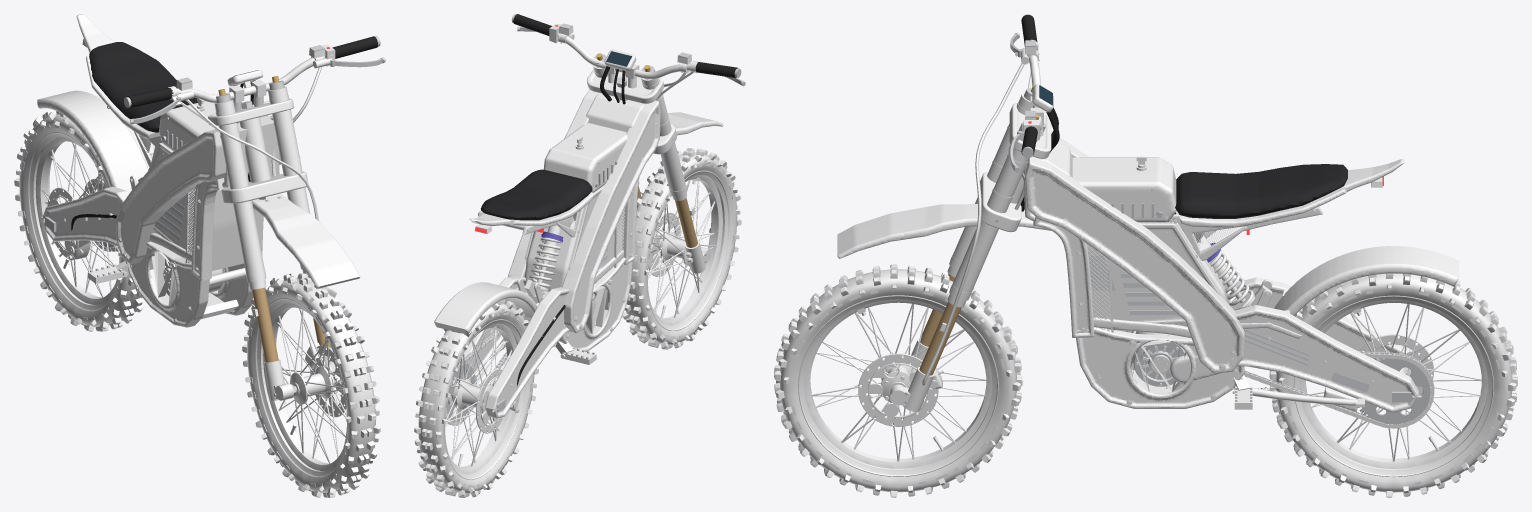
Rendered from SurRon.glb.
The picture shows the model from 3 angles, left to right: view 1: azimuth 30°, elevation 25°; view 2: azimuth 150°, elevation 25°; view 3: azimuth 270°, elevation 25°; orthographic projection. The views are drawn at different scales.
Parts seen in each view (by area): view 1: SurRon_FrontWheel_rubber, SurRon_Steering_black, SurRon_RearWheel_rubber, SurRon_Body_frame3, SurRon_Swingarm_black, SurRon_Body_seat, SurRon_Body_frame6, SurRon_Steering_rim, SurRon_Body_black, SurRon_Swingarm_frame2, SurRon_FrontWheel_spoke, SurRon_Body_frame4 (+17 smaller); view 2: SurRon_FrontWheel_rubber, SurRon_RearWheel_rubber, SurRon_Body_frame3, SurRon_Body_black, SurRon_Swingarm_frame2, SurRon_Steering_black, SurRon_Body_seat, SurRon_Swingarm_black, SurRon_Body_frame6, SurRon_Steering_rim, SurRon_FrontWheel_spoke, SurRon_FrontWheel_rim (+21 smaller); view 3: SurRon_FrontWheel_rubber, SurRon_RearWheel_rubber, SurRon_Body_frame2, SurRon_Steering_black, SurRon_Body_black, SurRon_Swingarm_frame, SurRon_Body_frame5, SurRon_Body_seat, SurRon_Swingarm_black, SurRon_FrontWheel_rim, SurRon_Body_panel, SurRon_RearWheel_rim (+19 smaller).
Part boxes in pixels (x1,y1,x2,y2): SurRon_FrontWheel_rubber: [242, 273, 380, 497]; SurRon_Steering_black: [168, 44, 360, 400]; SurRon_RearWheel_rubber: [14, 110, 143, 331]; SurRon_Body_frame3: [115, 129, 225, 264]; SurRon_Swingarm_black: [37, 90, 148, 220]; SurRon_Body_seat: [89, 42, 198, 132]; SurRon_Body_frame6: [125, 241, 209, 327]; SurRon_Steering_rim: [176, 56, 325, 203]; SurRon_Body_black: [76, 14, 238, 319]; SurRon_Swingarm_frame2: [42, 175, 142, 246]; SurRon_FrontWheel_spoke: [276, 308, 346, 463]; SurRon_Body_frame4: [191, 173, 279, 280]; SurRon_FrontWheel_rubber: [622, 148, 741, 349]; SurRon_RearWheel_rubber: [414, 299, 538, 497]; SurRon_Body_frame3: [562, 100, 660, 333]; SurRon_Body_black: [469, 123, 627, 347]; SurRon_Swingarm_frame2: [485, 278, 569, 418]; SurRon_Steering_black: [549, 24, 723, 273]; SurRon_Body_seat: [480, 169, 592, 220]; SurRon_Swingarm_black: [434, 282, 556, 387]; SurRon_Body_frame6: [559, 254, 632, 351]; SurRon_Steering_rim: [557, 33, 690, 154]; SurRon_FrontWheel_spoke: [648, 180, 715, 318]; SurRon_FrontWheel_rim: [652, 175, 722, 324]; SurRon_FrontWheel_rubber: [774, 264, 1022, 497]; SurRon_RearWheel_rubber: [1269, 273, 1517, 497]; SurRon_Body_frame2: [1025, 156, 1244, 373]; SurRon_Steering_black: [837, 39, 1053, 412]; SurRon_Body_black: [1072, 156, 1404, 388]; SurRon_Swingarm_frame: [1234, 305, 1418, 412]; SurRon_Body_frame5: [1076, 327, 1244, 408]; SurRon_Body_seat: [1175, 164, 1347, 218]; SurRon_Swingarm_black: [1240, 246, 1459, 411]; SurRon_FrontWheel_rim: [804, 299, 992, 468]; SurRon_Body_panel: [1087, 223, 1220, 328]; SurRon_RearWheel_rim: [1300, 300, 1487, 468].
Size of the model in its own units: 0.8102 by 1.16 by 1.88.
